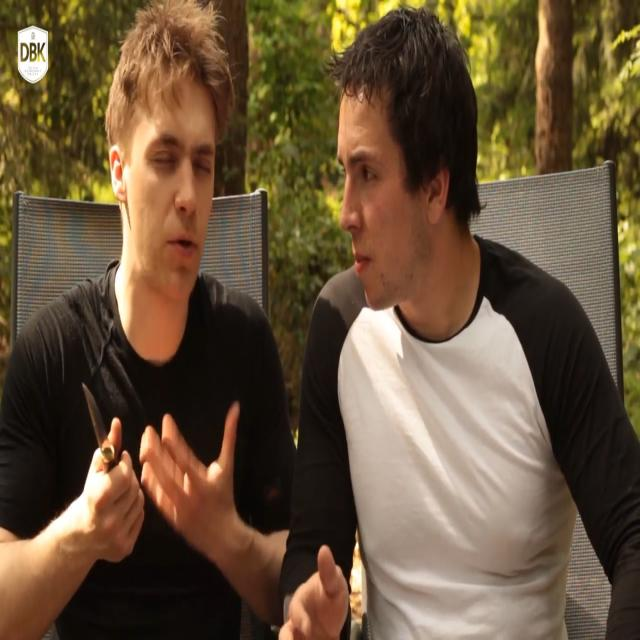knife: (82, 380, 122, 469)
